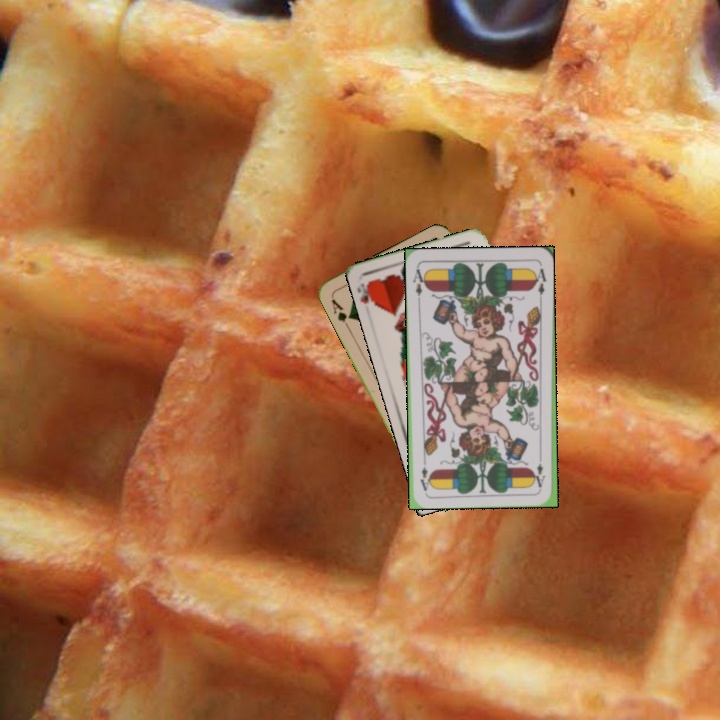EA: (409, 263, 428, 304), (533, 450, 548, 490)
GA: (327, 293, 354, 331)
HO: (354, 278, 380, 311)
